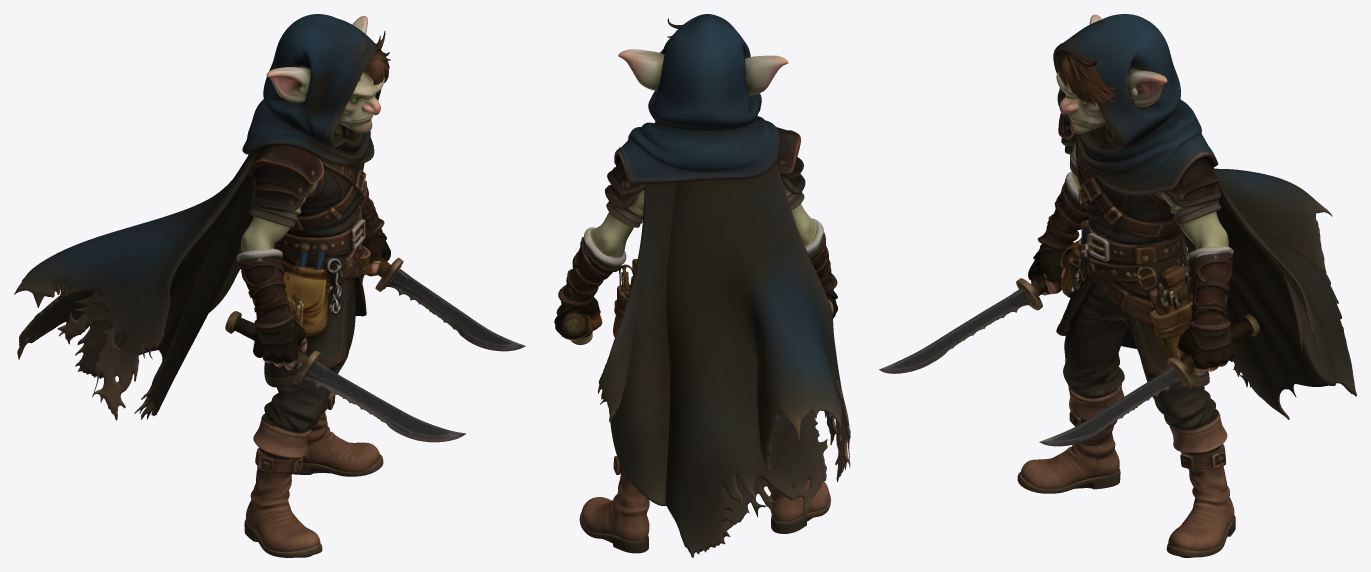
The model's file is halfling_rogue_full_male_01.glb.
3 renders of one model, left to right at view 1: azimuth 30°, elevation 25°; view 2: azimuth 150°, elevation 25°; view 3: azimuth 270°, elevation 25°, orthographic.
Parts seen in each view (by area): view 1: material; view 2: material; view 3: material.
Boxes of the visible parts, <box> form: material: <box>14,14,525,557</box>; material: <box>554,14,850,557</box>; material: <box>879,14,1356,557</box>.
Size of the model in its own units: 0.842 by 1.04 by 0.8921.
1 material, 1 textured.
